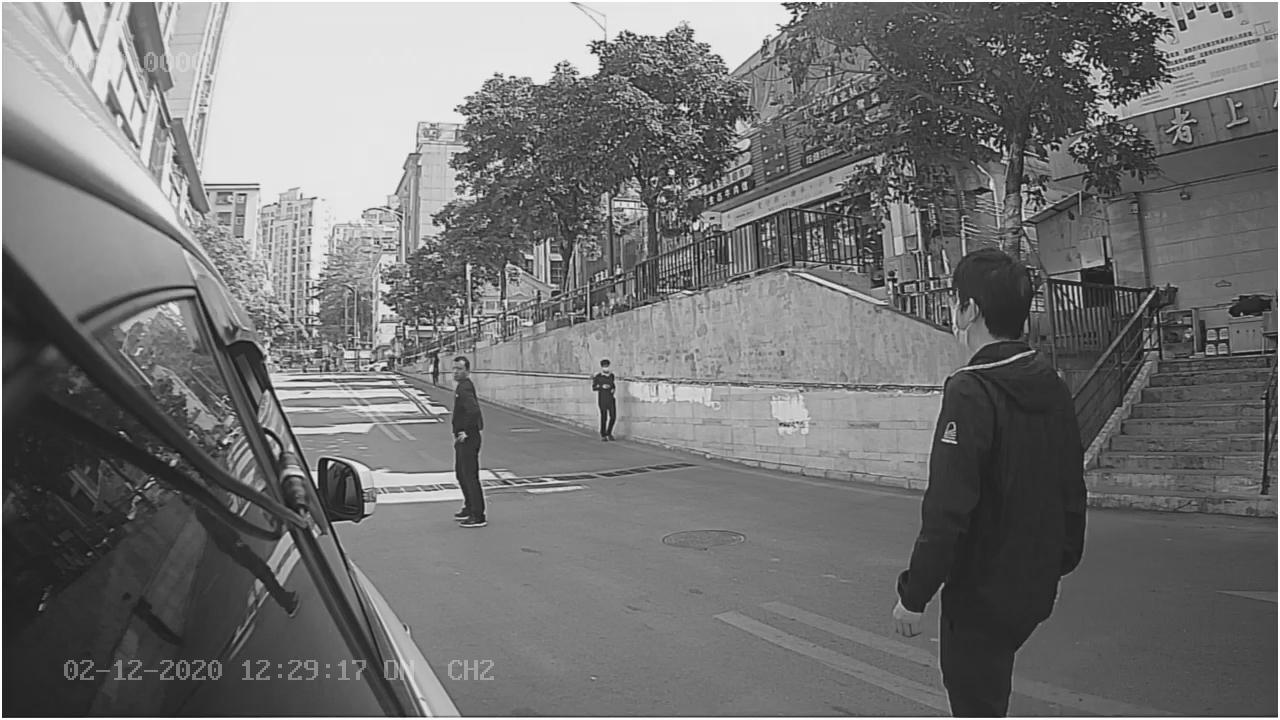person: (887, 244, 1089, 636), (427, 350, 503, 543)
